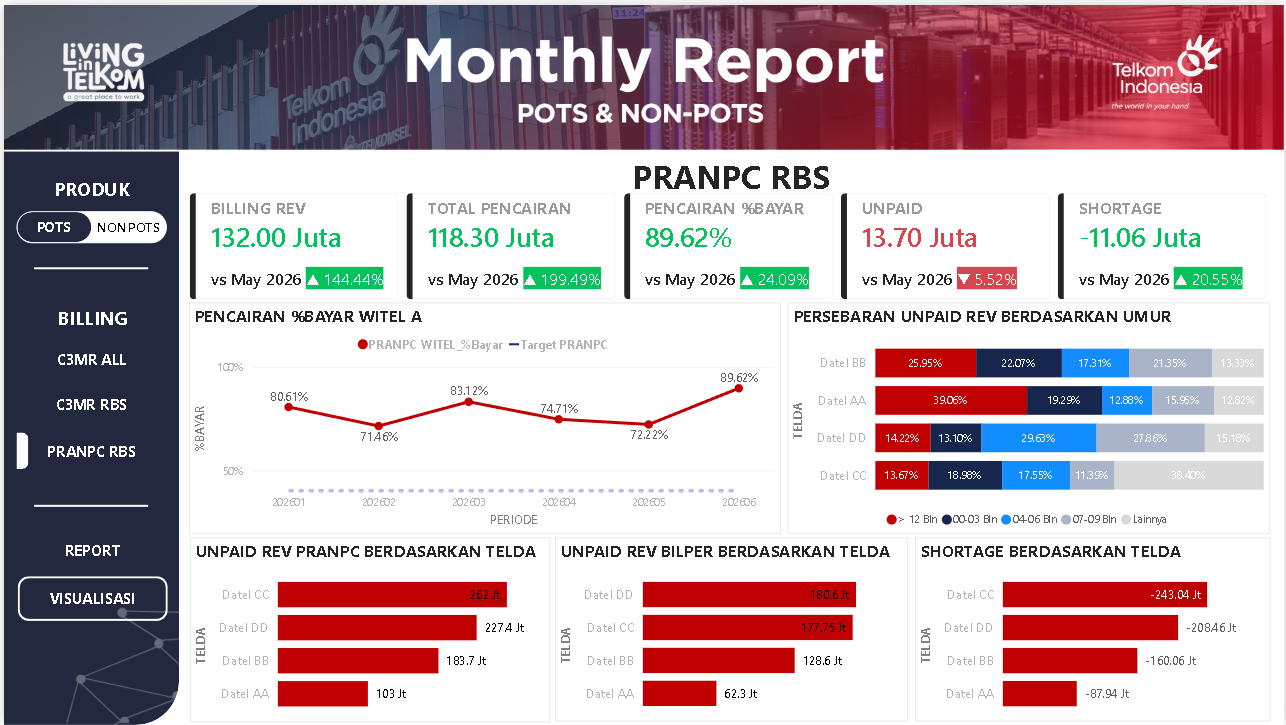

The dashboard page shown, as its layout file describes it:
{"tool":"powerbi","page":{"name":"POTS","canvas":[1280,720],"ordinal":0},"visuals":[{"type":"textbox","title":"Judul PRANPC RBS","box":[173.8,145,1106.2,53.8],"z":2000},{"type":"shape","title":"Sidebar","box":[0,146.2,175,573.8],"z":5000},{"type":"pageNavigator","box":[12.2,206.7,150,32.2],"z":6000},{"type":"image","title":"gambar sidebar","box":[36.9,412.3,190,307.5],"z":7000},{"type":"shape","title":"Pemisah produk billing","box":[30,242,114.6,41.5],"z":21000},{"type":"textbox","title":"Text box PRODUK","box":[6.2,166.2,163.1,36.9],"z":22000},{"type":"textbox","title":"Text box BILLING","box":[6,295,163,36],"z":23000},{"type":"actionButton","title":"Button C3MR ALL","box":[12.6,330.9,150,45.7],"z":24000},{"type":"actionButton","title":"Button PraNPC","box":[12.4,422,150,46.5],"z":25000},{"type":"actionButton","title":"Button PraNPC","box":[12.6,376.5,150,45.7],"z":26000},{"type":"shape","title":"Penanda billing pranpc","box":[12.9,427.1,11.8,36.5],"z":27000},{"type":"shape","title":"pemisah billing report","box":[30,480.4,114.4,41.7],"z":30000},{"type":"actionButton","title":"Button Report PRANPC BILPER ON","box":[13.8,521.5,150,46.2],"z":31000},{"type":"actionButton","title":"Button Visualisasi PRANPC OFF","box":[13.6,570.7,150,45],"z":55500},{"type":"tableEx","title":"PRANPC RBS BILPER","fields":{"Values":["Mapping New Telda.NEW TELDA","Sum(PRANPC RBS BILPER.Billing_L11 )","Sum(PRANPC RBS BILPER.Billing_Amount )","Sum(PRANPC RBS BILPER.Pencairan_Bayar )","PRANPC RBS BILPER.PRANPC BILPER_%Bayar","Sum(PRANPC RBS BILPER.Pencairan_Claim )","PRANPC RBS BILPER.PRANPC BILPER_%Claim","Sum(PRANPC RBS BILPER.Total Pencairan_L11 )","Sum(PRANPC RBS BILPER.Total Pencarian_Amount )","PRANPC RBS BILPER.PRANPC BILPER_%L11","PRANPC RBS BILPER.PRANPC BILPER_%Ammount","Sum(PRANPC RBS BILPER.Saldo_L11 )"]},"box":[211.2,262.5,1032.5,201.2],"z":64000},{"type":"shape","title":"outline button pranpc rbs","box":[481.5,198.9,488.8,60.6],"z":66000},{"type":"actionButton","title":"Button Umur PRANPC Putih","box":[486,202.2,120,54.7],"z":67000},{"type":"actionButton","title":"Button Witel PRANPC Putih","box":[605.7,202.4,120,52.9],"z":68000},{"type":"actionButton","title":"Button Telda PRANPC Putih","box":[725.7,202.4,120,52.9],"z":69000},{"type":"actionButton","title":"Button Bilper PRANPC","box":[846,202.9,120,52.7],"z":74000}]}

Visuals, with their boxes in screenshot pixels (x1, y1, x2, y2), scaled from the page's 1280x720 canvas onto the 1286x725 screenshot:
"Judul PRANPC RBS" textbox: crop(175, 146, 1285, 200)
"Sidebar" shape: crop(0, 147, 176, 724)
pageNavigator: crop(12, 208, 163, 241)
"gambar sidebar" image: crop(37, 415, 228, 724)
"Pemisah produk billing" shape: crop(30, 244, 145, 285)
"Text box PRODUK" textbox: crop(6, 167, 170, 205)
"Text box BILLING" textbox: crop(6, 297, 170, 333)
"Button C3MR ALL" actionButton: crop(13, 333, 163, 379)
"Button PraNPC" actionButton: crop(12, 425, 163, 472)
"Button PraNPC" actionButton: crop(13, 379, 163, 425)
"Penanda billing pranpc" shape: crop(13, 430, 25, 467)
"pemisah billing report" shape: crop(30, 484, 145, 526)
"Button Report PRANPC BILPER ON" actionButton: crop(14, 525, 165, 572)
"Button Visualisasi PRANPC OFF" actionButton: crop(14, 575, 164, 620)
"PRANPC RBS BILPER" tableEx: crop(212, 264, 1250, 467)
"outline button pranpc rbs" shape: crop(484, 200, 975, 261)
"Button Umur PRANPC Putih" actionButton: crop(488, 204, 609, 259)
"Button Witel PRANPC Putih" actionButton: crop(609, 204, 729, 257)
"Button Telda PRANPC Putih" actionButton: crop(729, 204, 850, 257)
"Button Bilper PRANPC" actionButton: crop(850, 204, 971, 257)
